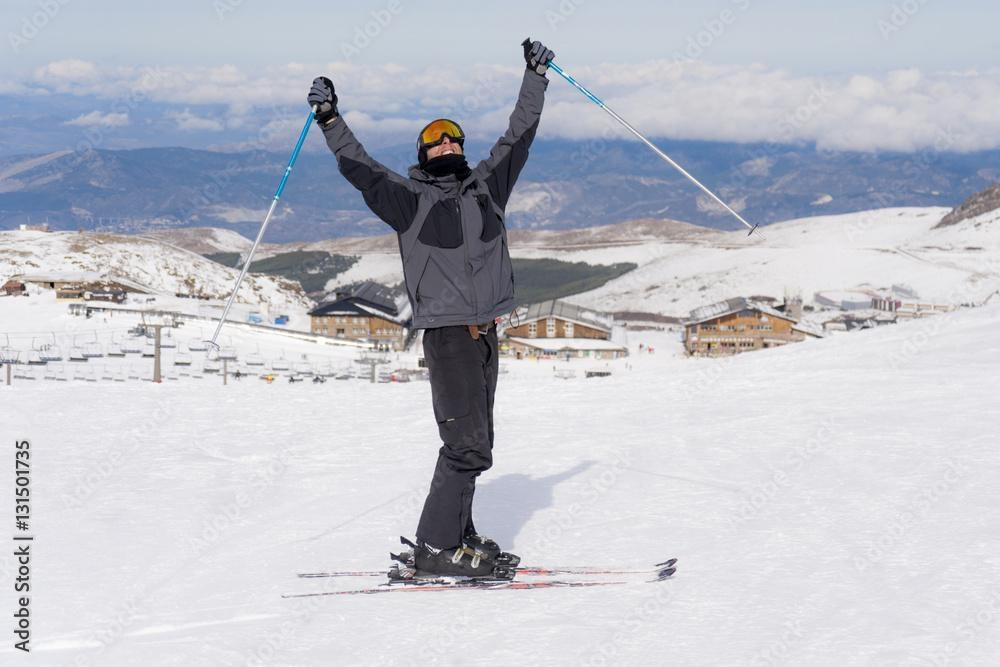Skis: (268, 530, 702, 621)
